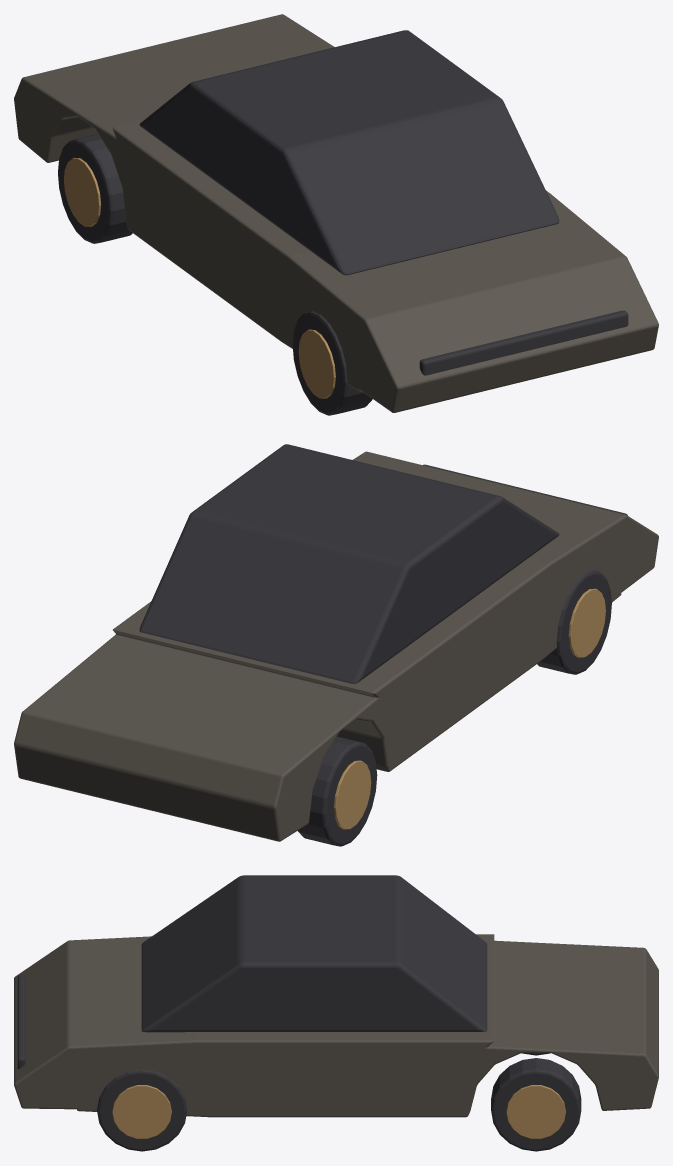
Rendered from car-saloon.glb.
3 renders of one model, top to bottom at view 1: azimuth 30°, elevation 25°; view 2: azimuth 150°, elevation 25°; view 3: azimuth 270°, elevation 25°, orthographic. The views are drawn at different scales.
Visible parts, largest first — view 1: car_body, car_glass, car_wheel_f_-1, car_tail, car_wheel_r_-1, car_wheel_r_-1_rim_-1, car_wheel_f_-1_rim_-1; view 2: car_body, car_glass, car_wheel_f_-1, car_wheel_r_-1, car_wheel_f_-1_rim_-1, car_wheel_r_-1_rim_-1; view 3: car_body, car_glass, car_wheel_f_1, car_wheel_r_1, car_wheel_f_1_rim_1, car_wheel_r_1_rim_1, car_tail.
Boxes of the visible parts, box(x1,y1,x2,y2) form: car_body: box(14, 14, 658, 412); car_glass: box(139, 30, 559, 275); car_wheel_f_-1: box(58, 134, 132, 243); car_tail: box(419, 310, 628, 375); car_wheel_r_-1: box(292, 311, 372, 415); car_wheel_r_-1_rim_-1: box(298, 329, 335, 398); car_wheel_f_-1_rim_-1: box(64, 157, 100, 226); car_body: box(14, 451, 658, 841); car_glass: box(139, 444, 559, 683); car_wheel_f_-1: box(297, 736, 377, 846); car_wheel_r_-1: box(537, 570, 611, 674); car_wheel_f_-1_rim_-1: box(334, 760, 371, 829); car_wheel_r_-1_rim_-1: box(568, 588, 605, 657); car_body: box(14, 934, 658, 1117); car_glass: box(141, 875, 487, 1032); car_wheel_f_1: box(491, 1058, 581, 1151); car_wheel_r_1: box(97, 1069, 187, 1151); car_wheel_f_1_rim_1: box(506, 1085, 565, 1138); car_wheel_r_1_rim_1: box(112, 1085, 171, 1138); car_tail: box(17, 975, 25, 1069).
Bounding box in the file's own units: 1.93 × 1.44 × 4.71.
